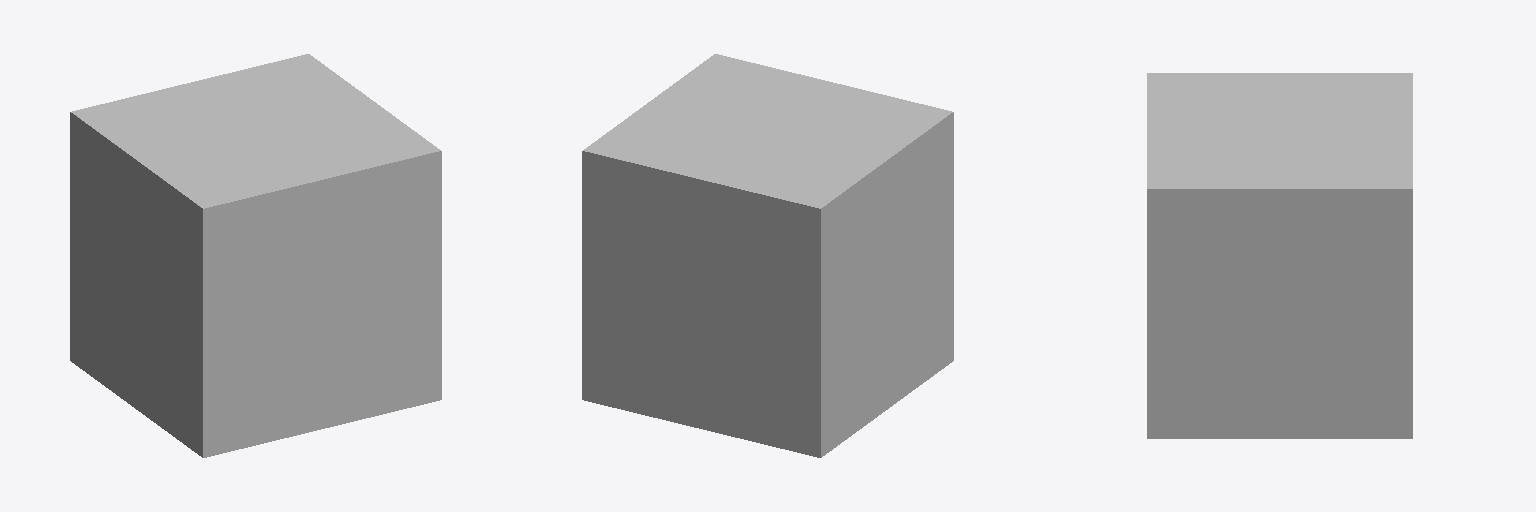
File: Gold.obj
3 views of the same model, side by side, from view 1: azimuth 30°, elevation 25°; view 2: azimuth 150°, elevation 25°; view 3: azimuth 270°, elevation 25° (orthographic).
Visible parts, largest first — view 1: Gold; view 2: Gold; view 3: Gold.
Part boxes in pixels (x1,y1,x2,y2): Gold: (70, 54, 441, 457); Gold: (582, 54, 953, 457); Gold: (1147, 73, 1412, 438).
Bounding box in the file's own units: 2.8 × 2.8 × 2.7.